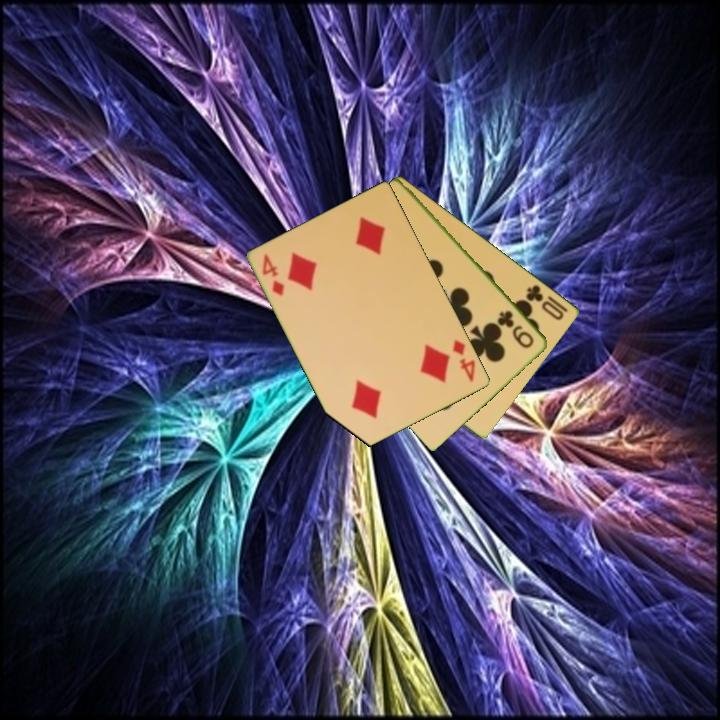10c: (522, 281, 567, 323)
4d: (449, 336, 479, 385), (259, 250, 288, 299)
9c: (495, 306, 537, 351)
